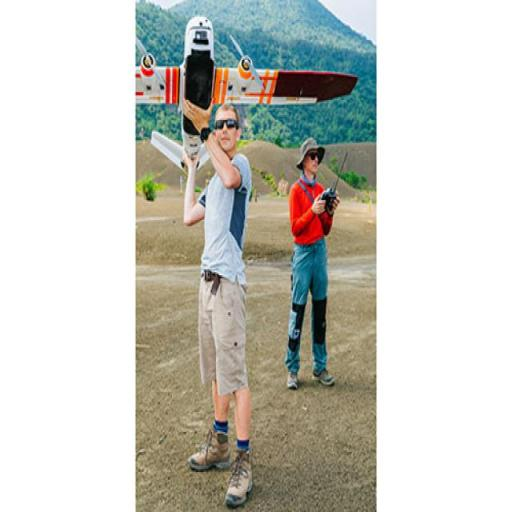uav: (137, 14, 357, 201)
